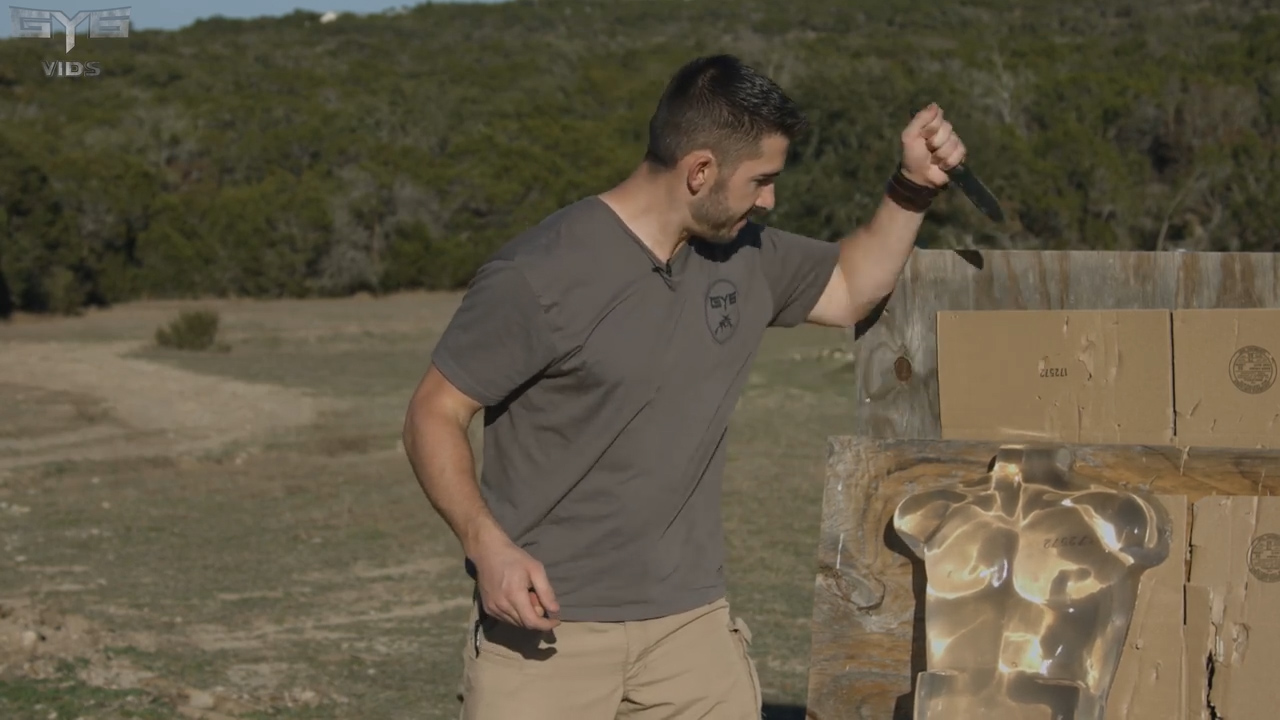knife: (903, 98, 1018, 242)
